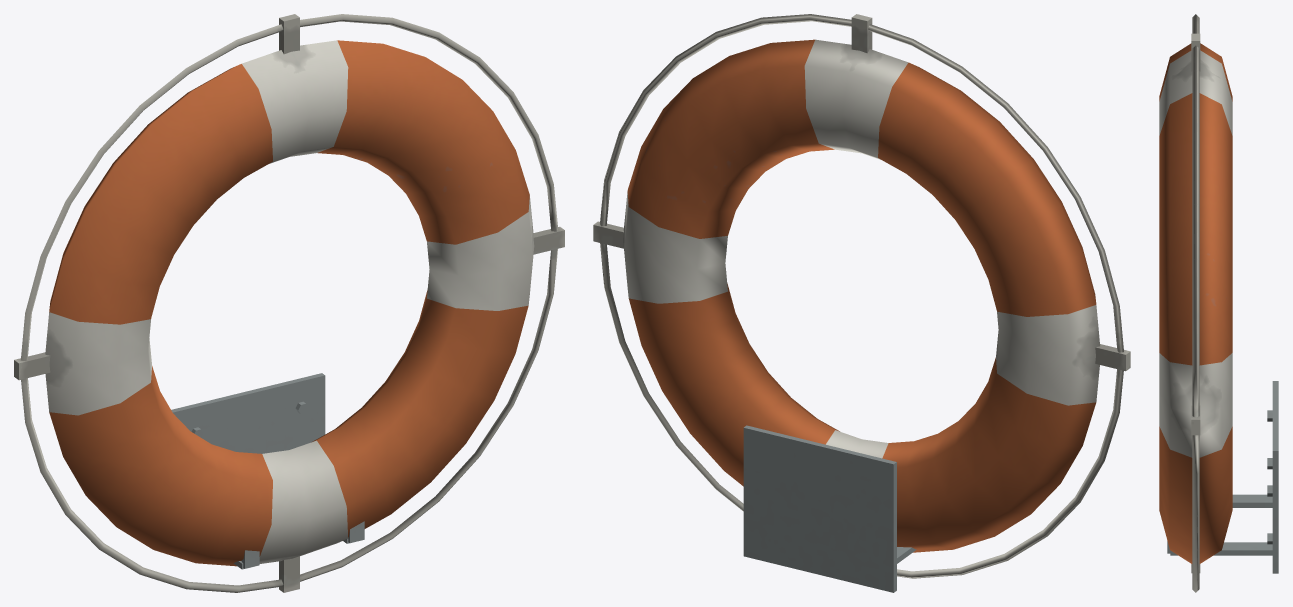
File: lake_life_ring_mounted.glb
3 renders of one model, left to right at view 1: azimuth 30°, elevation 25°; view 2: azimuth 150°, elevation 25°; view 3: azimuth 270°, elevation 25°, orthographic. The views are drawn at different scales.
Visible parts, largest first — view 1: LifeRingMounted; view 2: LifeRingMounted; view 3: LifeRingMounted.
Part boxes in pixels (<box>): LifeRingMounted: <box>14,14,564,592</box>; LifeRingMounted: <box>593,14,1130,592</box>; LifeRingMounted: <box>1159,14,1278,592</box>.
Bounding box in the file's own units: 0.78 × 0.78 × 0.1587.
1 material, 1 textured.
